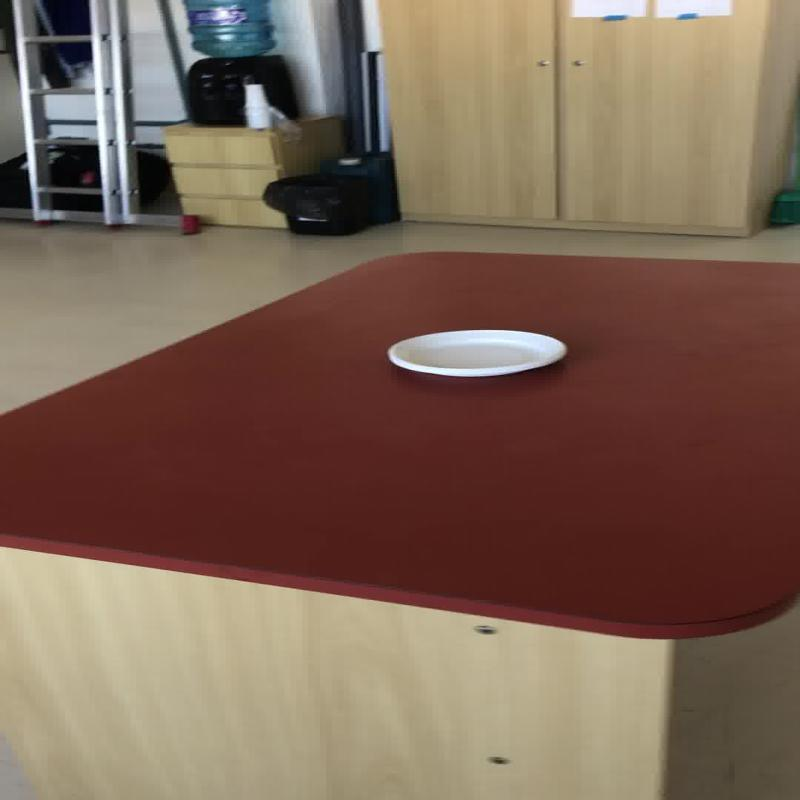plate: (385, 328, 566, 377)
